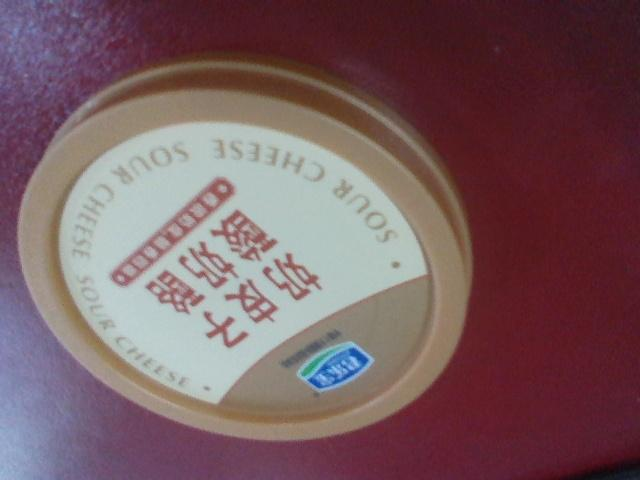lid: (10, 56, 482, 454)
